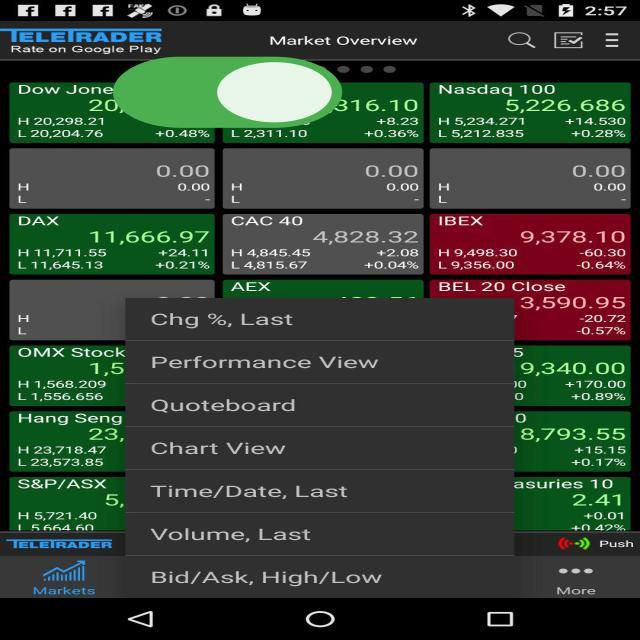social proof: (102, 29, 352, 161)
